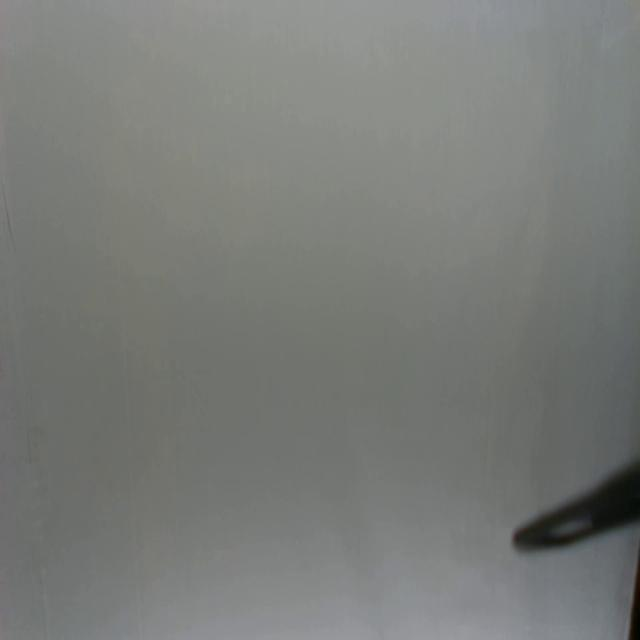crease: (1, 174, 19, 254)
